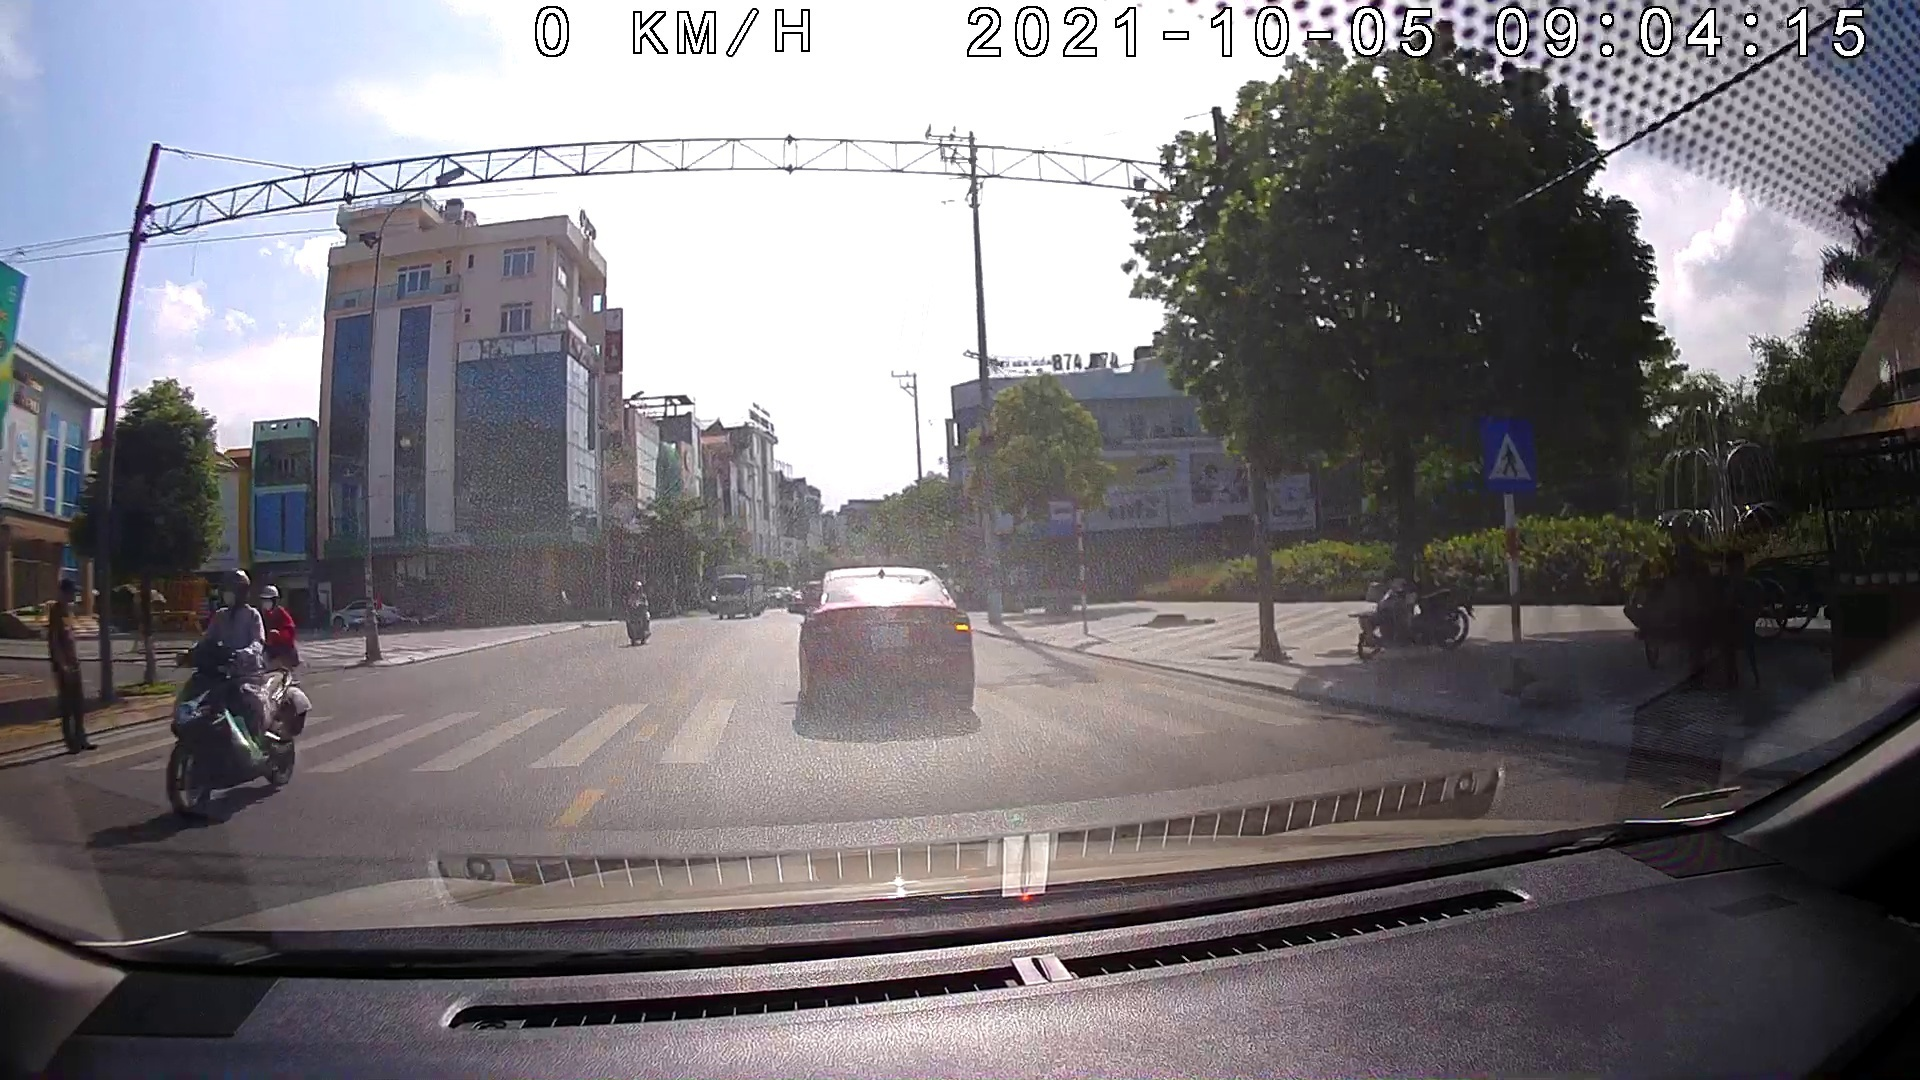Nguoi di bo: (1481, 415, 1535, 488)
